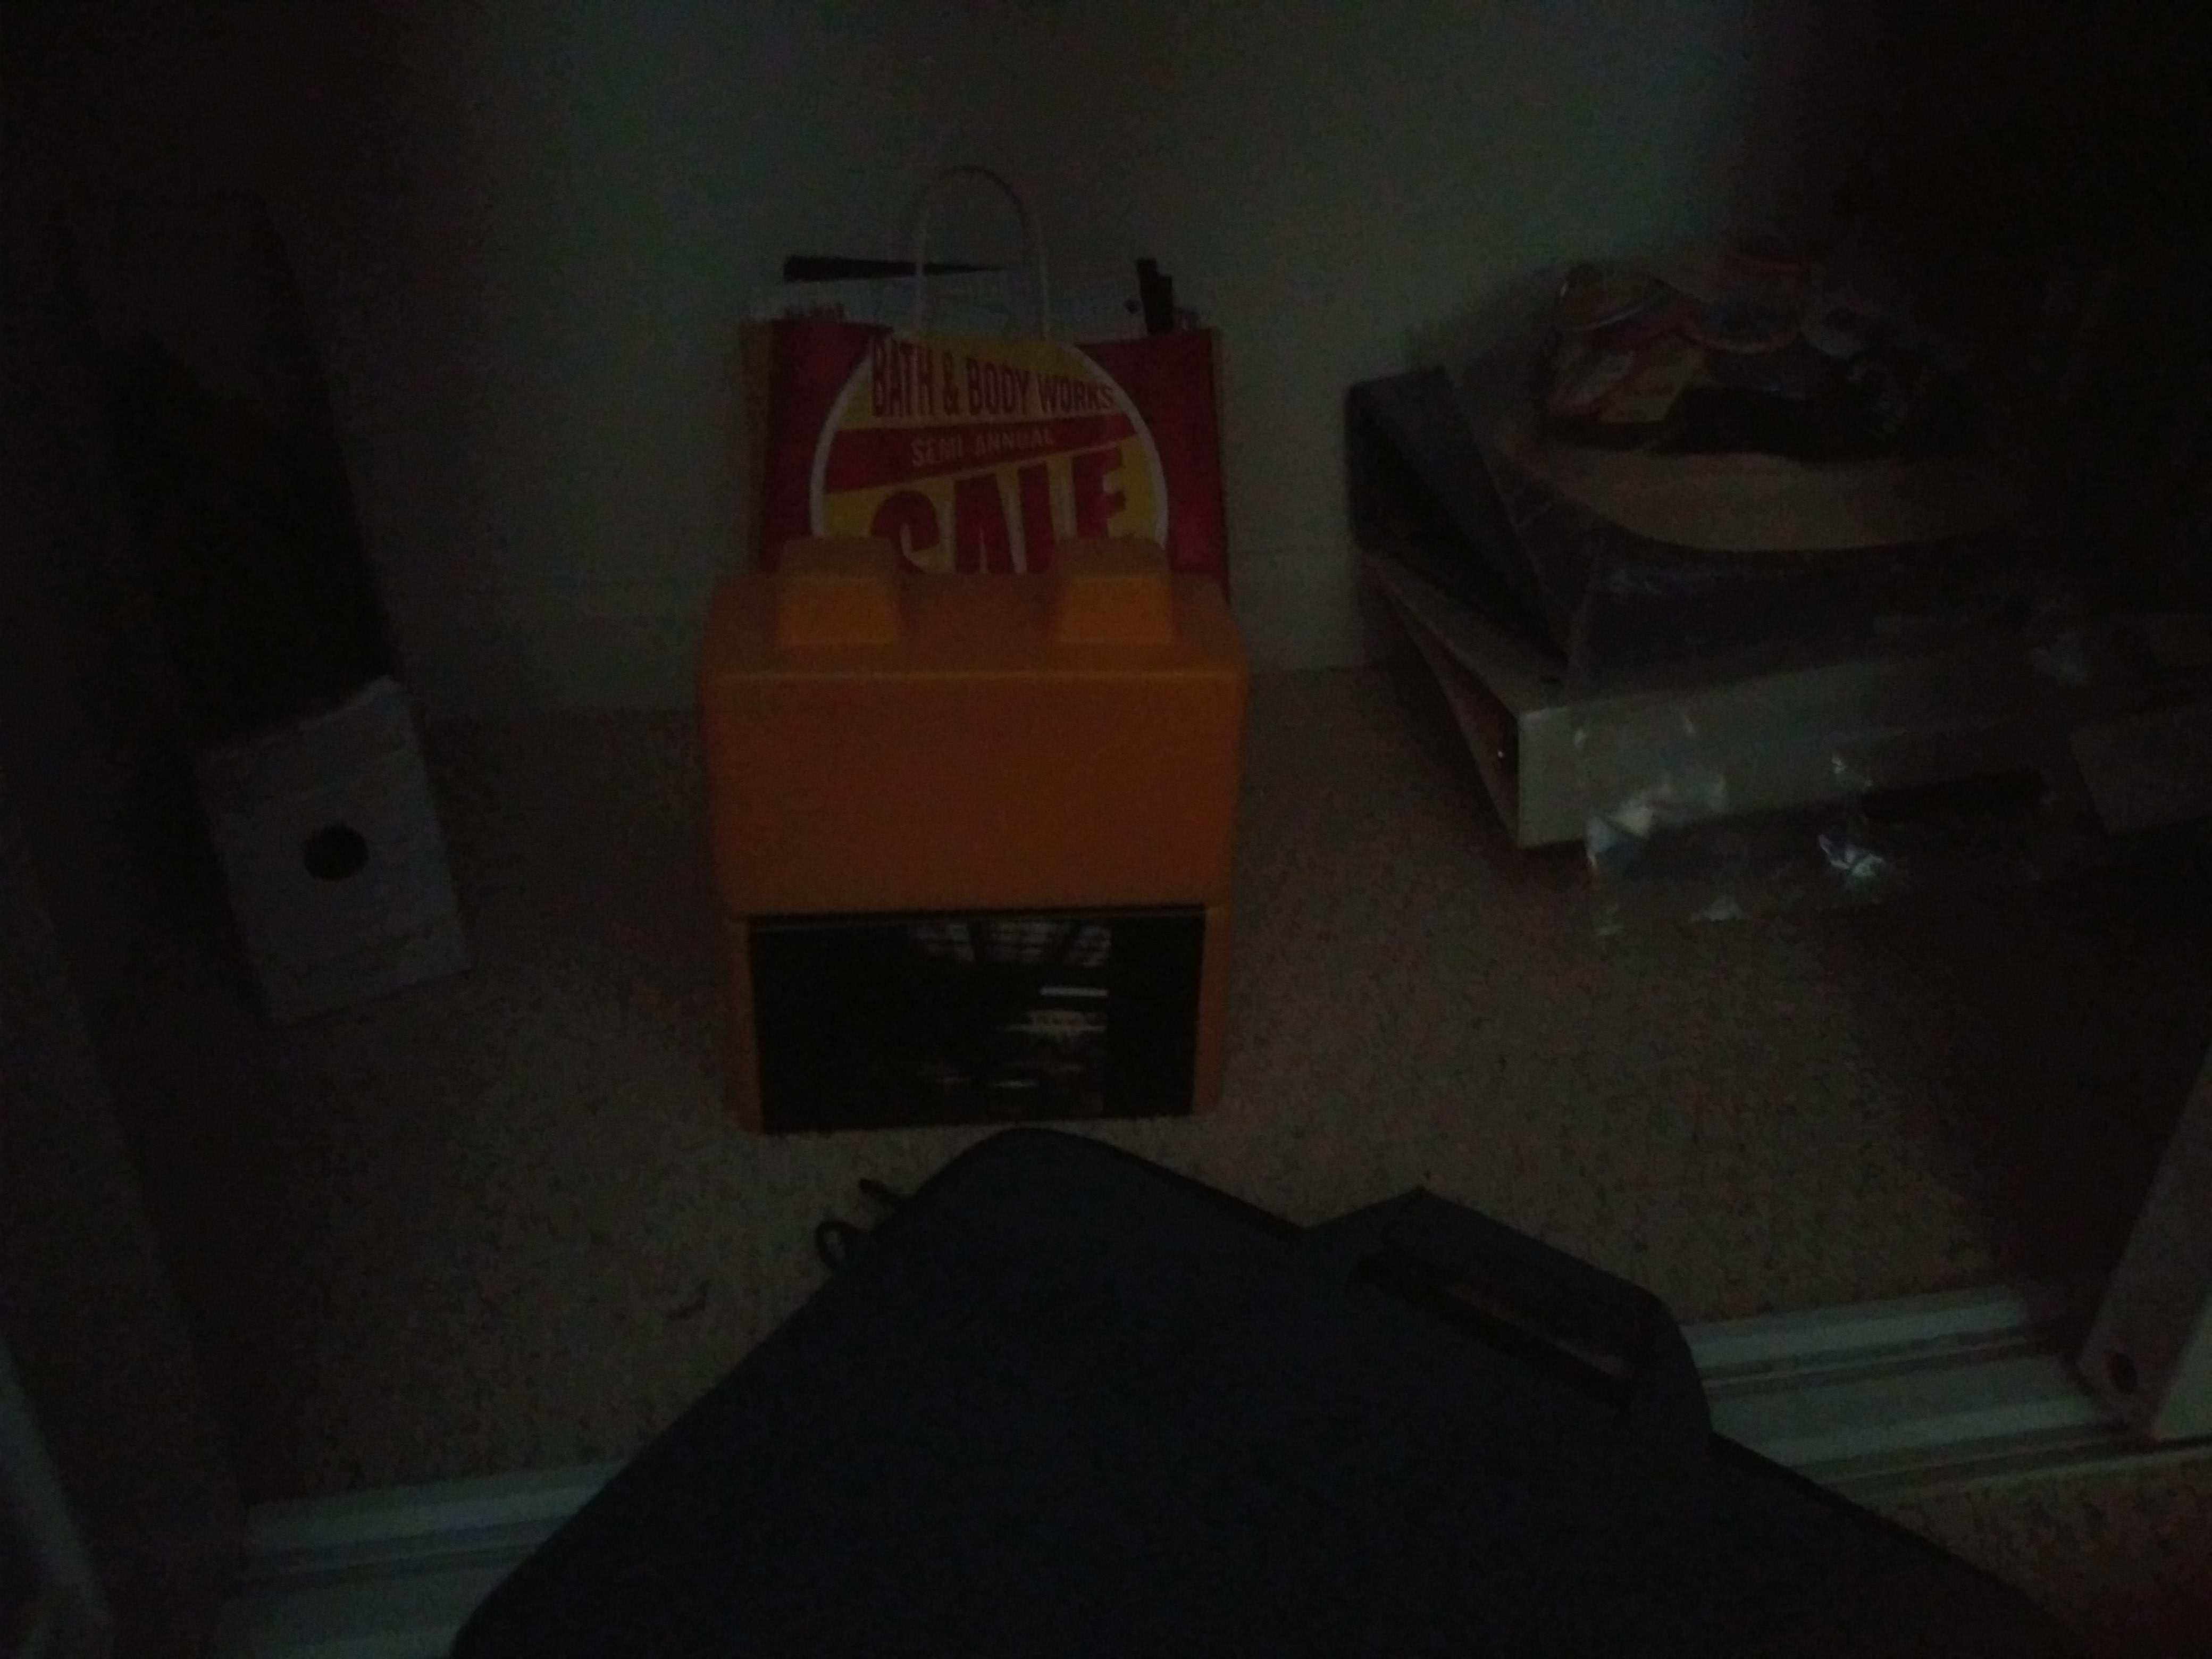skystone: (725, 915, 1240, 1129)
stone: (691, 599, 1237, 899)
